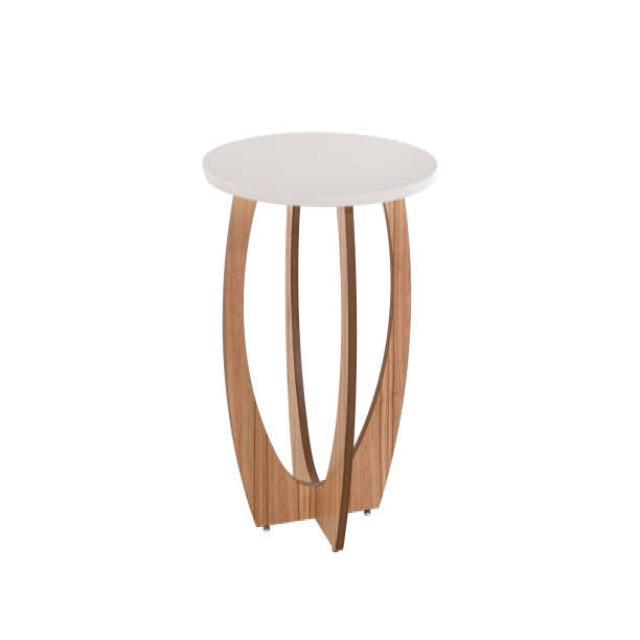table: (201, 128, 437, 550)
